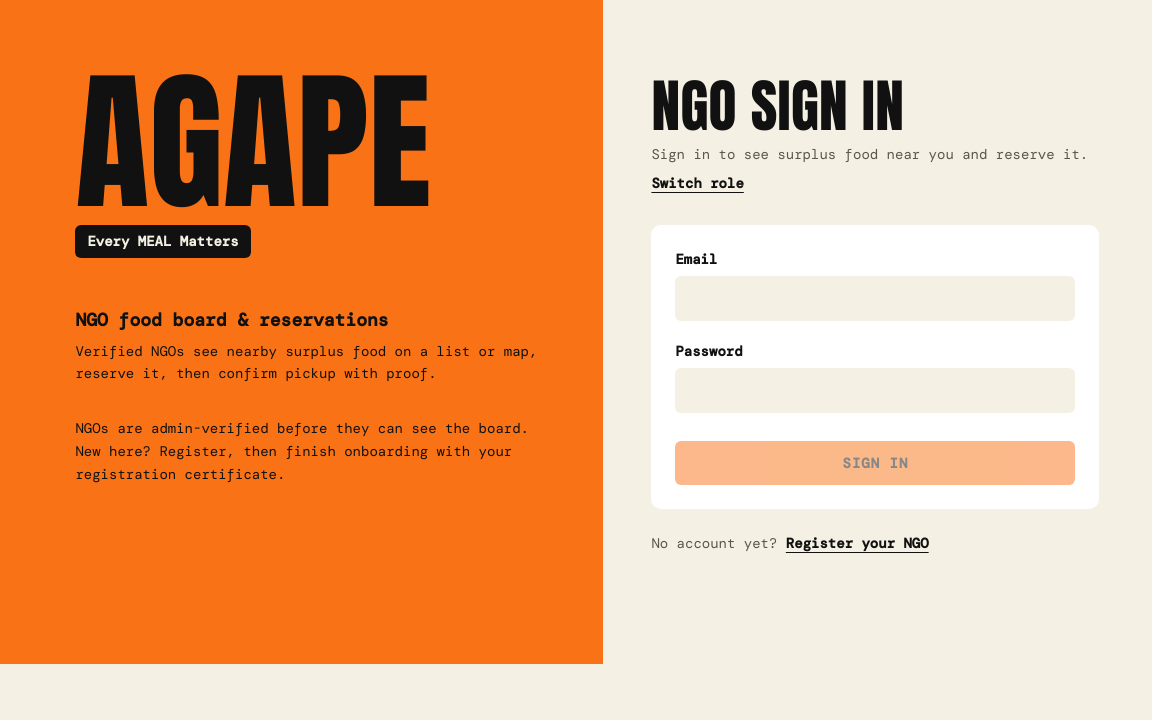
Test: signing in (live backend) › shows the backend detail for a disabled account (403 ACCOUNT_DISABLED)
Type "a@b.org" into the field labelled "Email".
click(875, 298); type("a@b.org")  # box [675,276,1075,321]
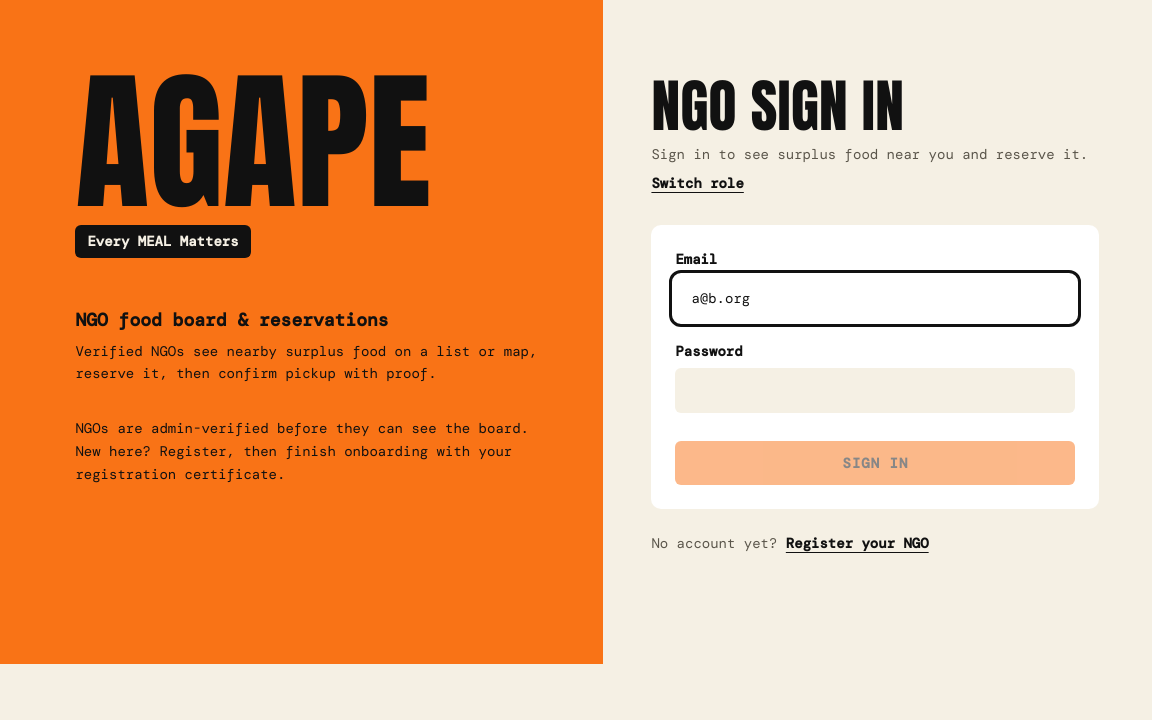
Type "secret123" into the password field labelled "Password".
click(875, 390); type("secret123")  # box [675,368,1075,413]
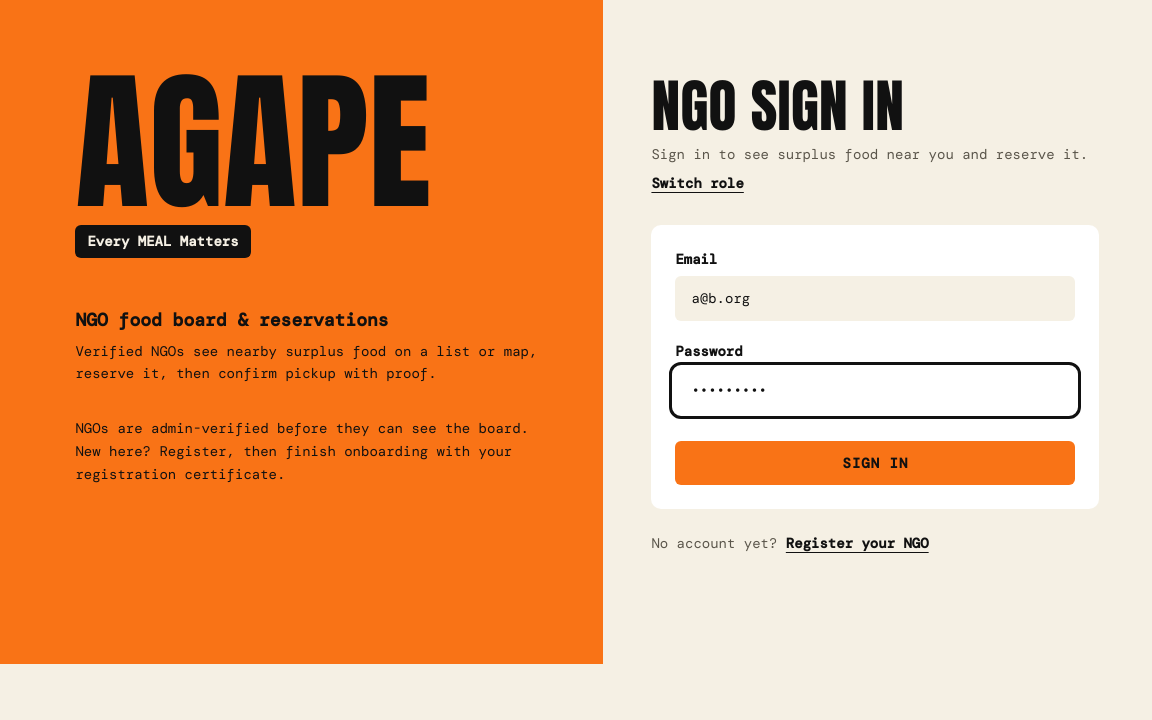
Click the button "Sign in".
click(875, 463)  # box [675,441,1075,485]
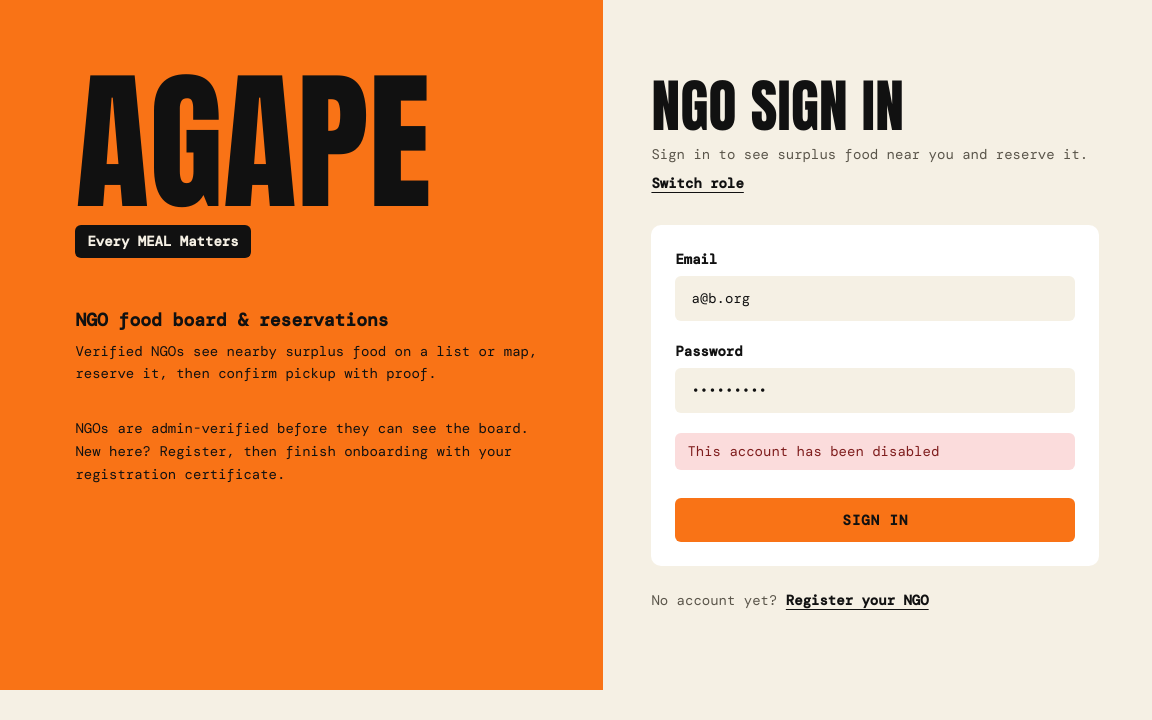
Result: the message reads "This account has been disabled" at [687,442,939,460]
